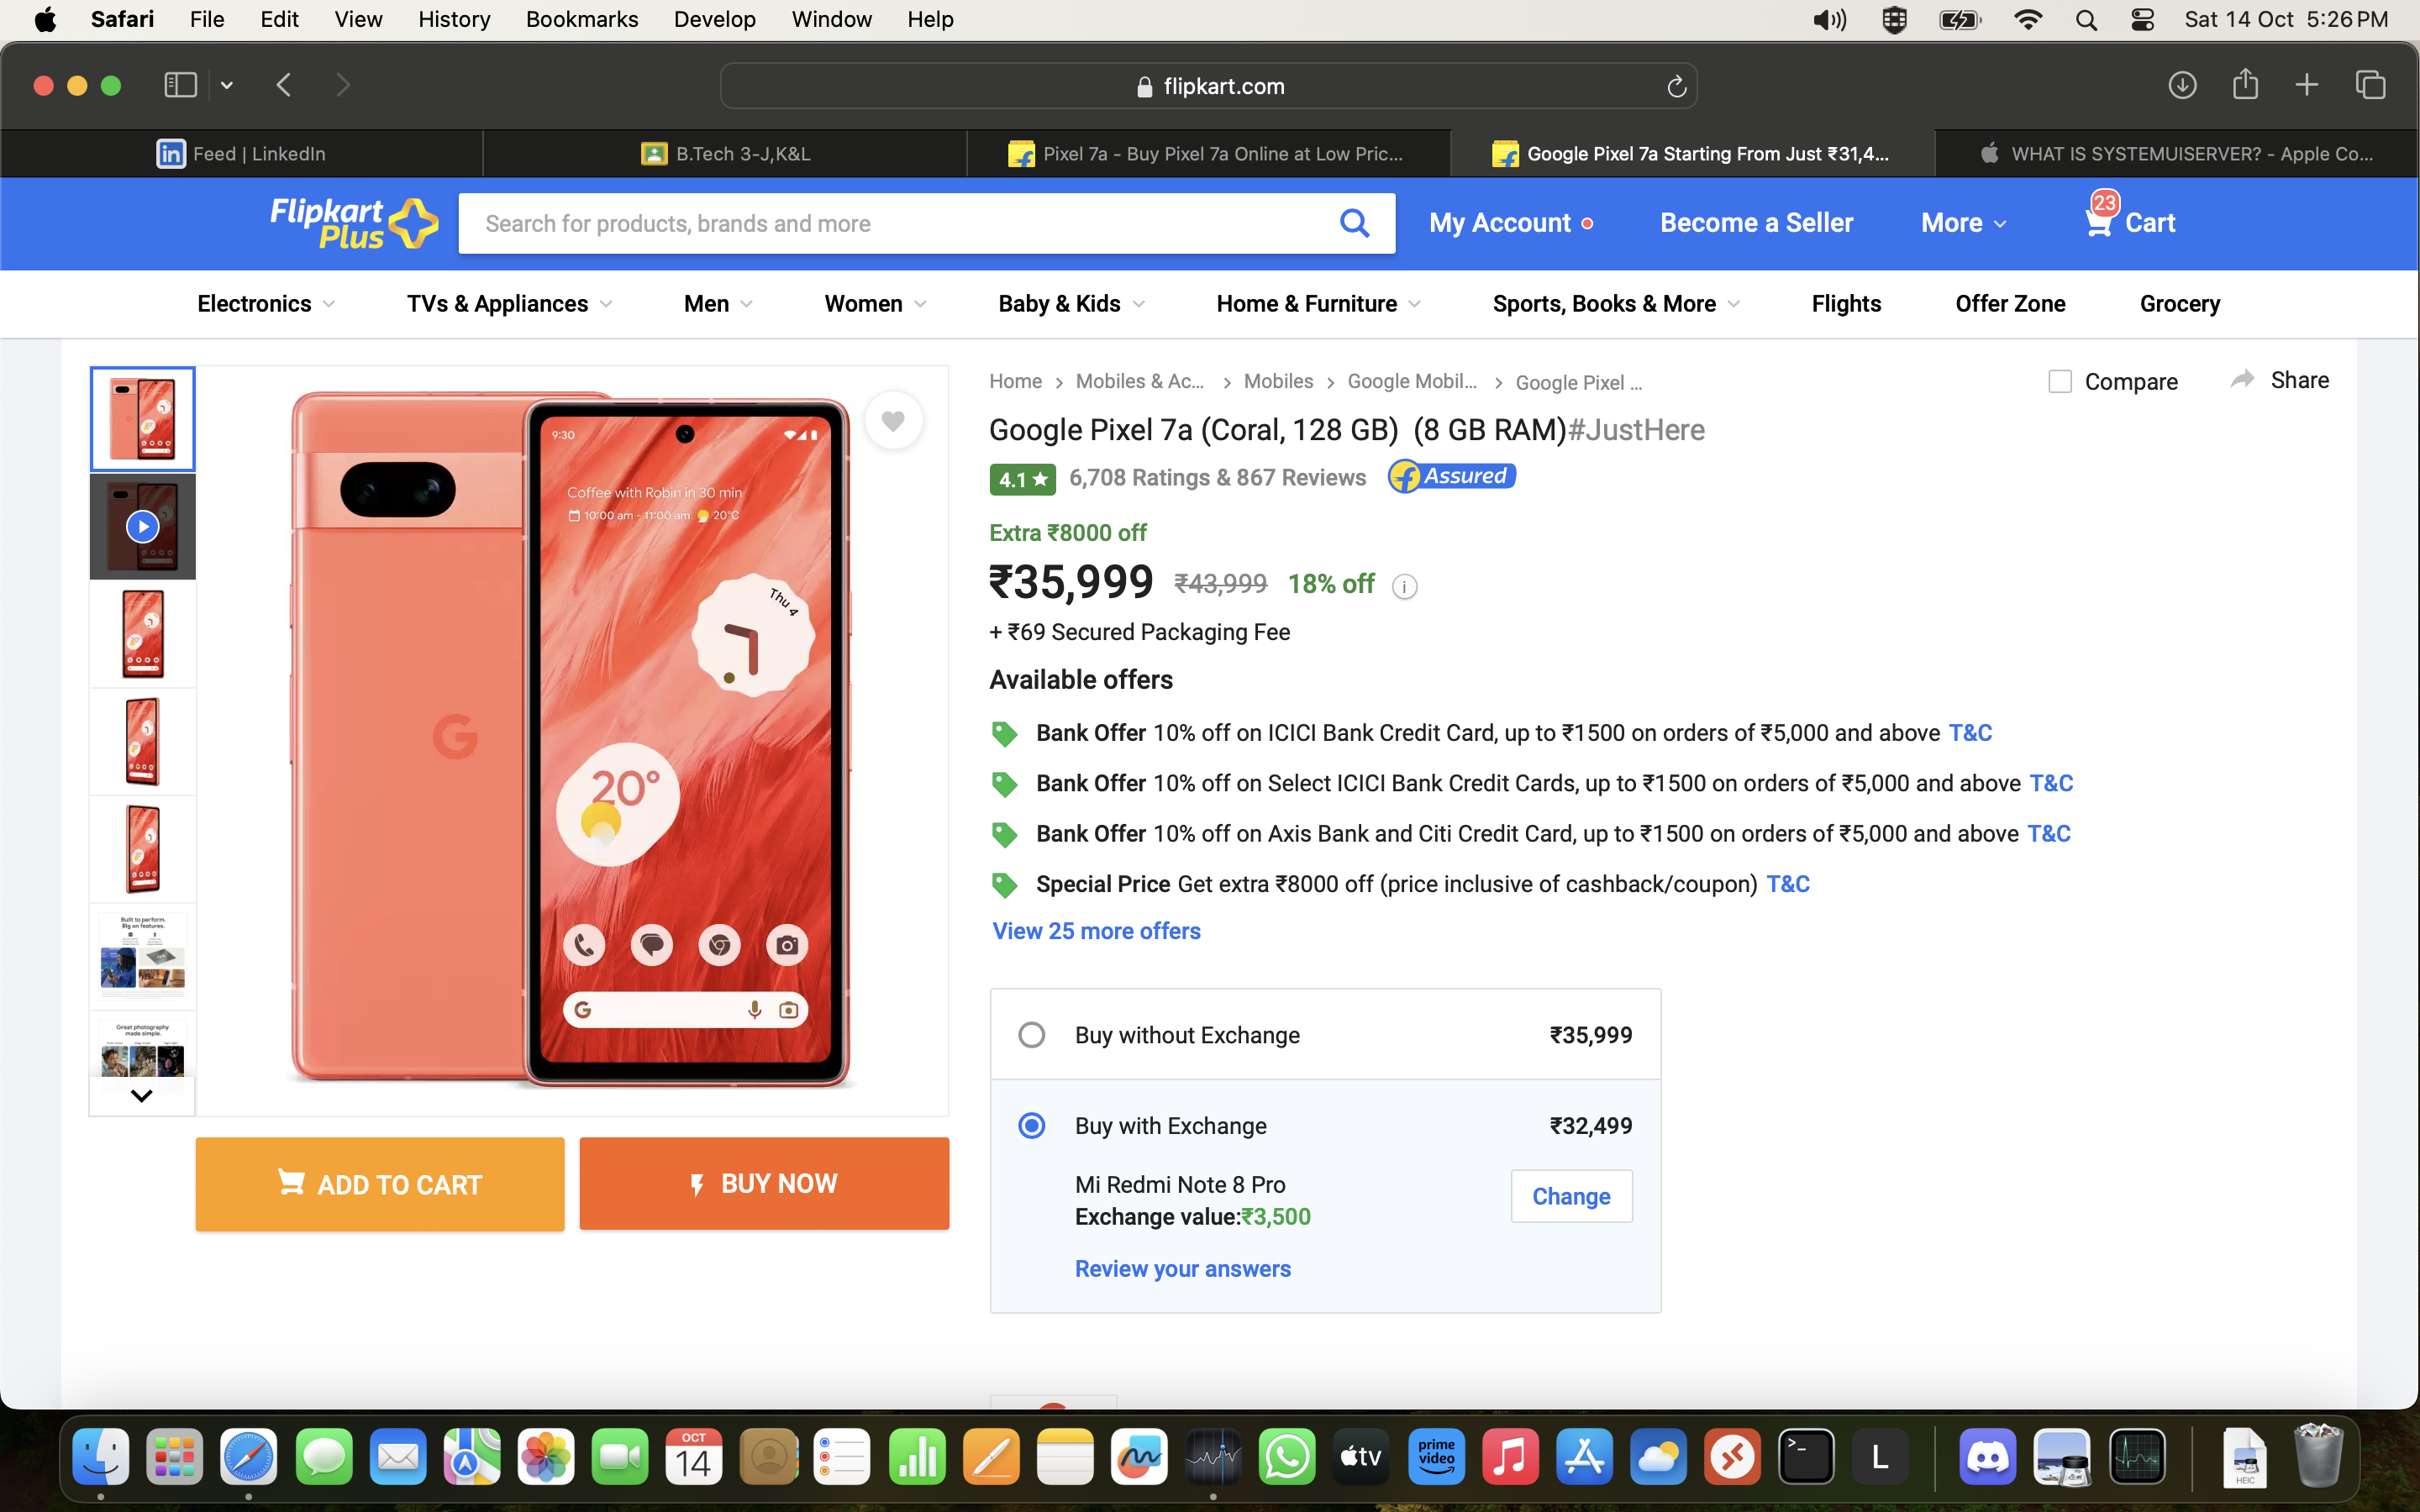Image: (278, 373, 866, 1107), (84, 365, 194, 460), (98, 903, 190, 994), (106, 581, 176, 684), (81, 1016, 190, 1074), (113, 701, 171, 785), (121, 793, 160, 903)
Paragraph: (1027, 811, 2087, 852), (1023, 712, 2000, 749), (1031, 863, 1821, 906), (1034, 771, 2076, 804), (994, 406, 1714, 449), (983, 358, 1652, 402), (976, 555, 1429, 614), (1056, 1169, 1342, 1239), (241, 1151, 538, 1217), (387, 267, 603, 340), (1053, 460, 1386, 504), (980, 906, 1218, 965), (1481, 278, 1725, 333), (976, 654, 1196, 709), (1196, 278, 1407, 333), (680, 1158, 870, 1217), (1060, 1100, 1286, 1147), (983, 617, 1302, 650), (256, 186, 406, 252), (1411, 201, 1583, 256), (2047, 358, 2201, 417), (1649, 201, 1868, 241), (1060, 1253, 1308, 1286), (980, 512, 1166, 549), (2226, 354, 2350, 409), (998, 281, 1137, 329), (1060, 1020, 1316, 1045), (171, 285, 329, 325), (2080, 186, 2190, 241), (1952, 281, 2076, 325), (1795, 278, 1901, 329), (1535, 1005, 1638, 1056), (801, 274, 910, 318), (1535, 1100, 1641, 1144), (1521, 1173, 1627, 1217), (2117, 281, 2233, 318), (661, 274, 742, 318), (1901, 212, 2000, 241)
